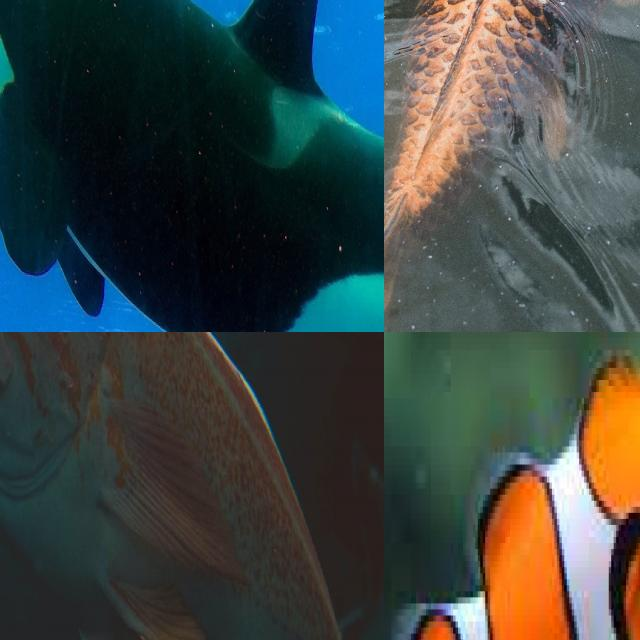fish: (0, 0, 384, 332), (0, 333, 384, 640), (384, 374, 640, 640), (384, 0, 640, 246)
